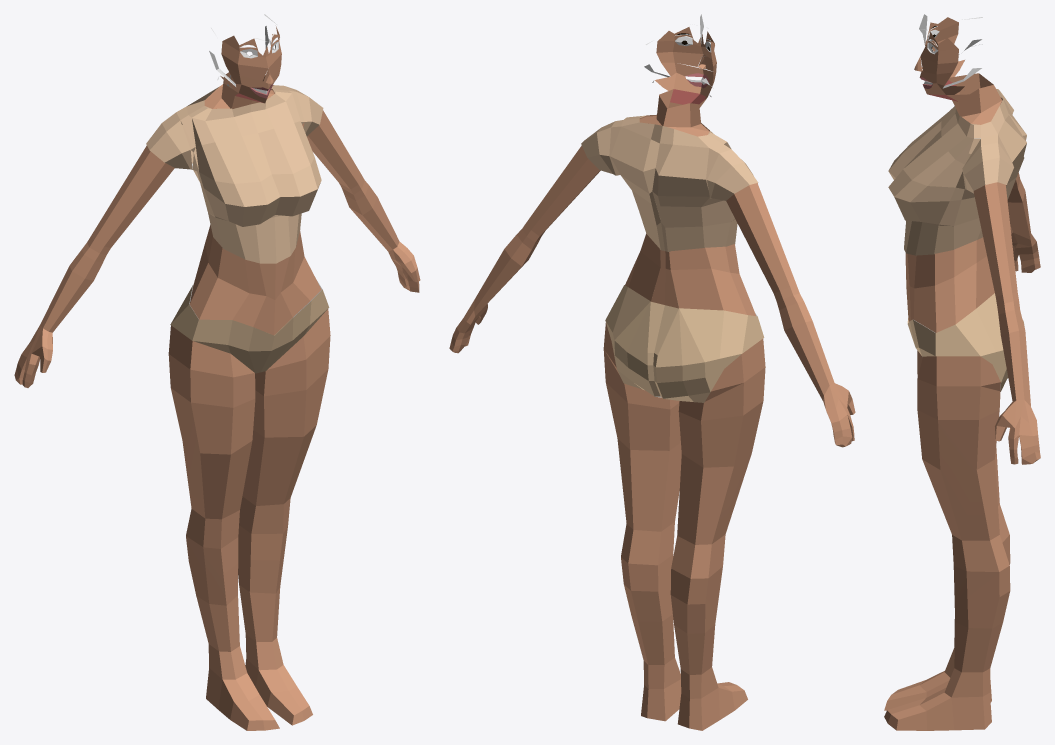
Rendered from Simple_low-Poly_Woman_villager.glb.
The picture shows the model from 3 angles, left to right: view 1: azimuth 30°, elevation 25°; view 2: azimuth 150°, elevation 25°; view 3: azimuth 270°, elevation 25°; orthographic projection.
Visible parts, largest first — view 1: Cylinder_Skin.001_0, Cylinder_Shirt_0, Cylinder_UnderWear_0; view 2: Cylinder_Skin.001_0, Cylinder_Shirt_0, Cylinder_UnderWear_0; view 3: Cylinder_Skin.001_0, Cylinder_Shirt_0, Cylinder_UnderWear_0, Cylinder_Material.001_0.
Boxes of the visible parts, left/top/right/bottom form: Cylinder_Skin.001_0: left=14, top=26, right=420, bottom=730; Cylinder_Shirt_0: left=146, top=85, right=323, bottom=263; Cylinder_UnderWear_0: left=170, top=285, right=329, bottom=373; Cylinder_Skin.001_0: left=449, top=27, right=855, bottom=730; Cylinder_Shirt_0: left=581, top=115, right=757, bottom=251; Cylinder_UnderWear_0: left=605, top=285, right=764, bottom=402; Cylinder_Skin.001_0: left=884, top=17, right=1040, bottom=730; Cylinder_Shirt_0: left=888, top=89, right=1026, bottom=255; Cylinder_UnderWear_0: left=907, top=293, right=1024, bottom=391; Cylinder_Material.001_0: left=914, top=14, right=1017, bottom=463.
Size of the model in its own units: 236 by 390 by 79.12.
